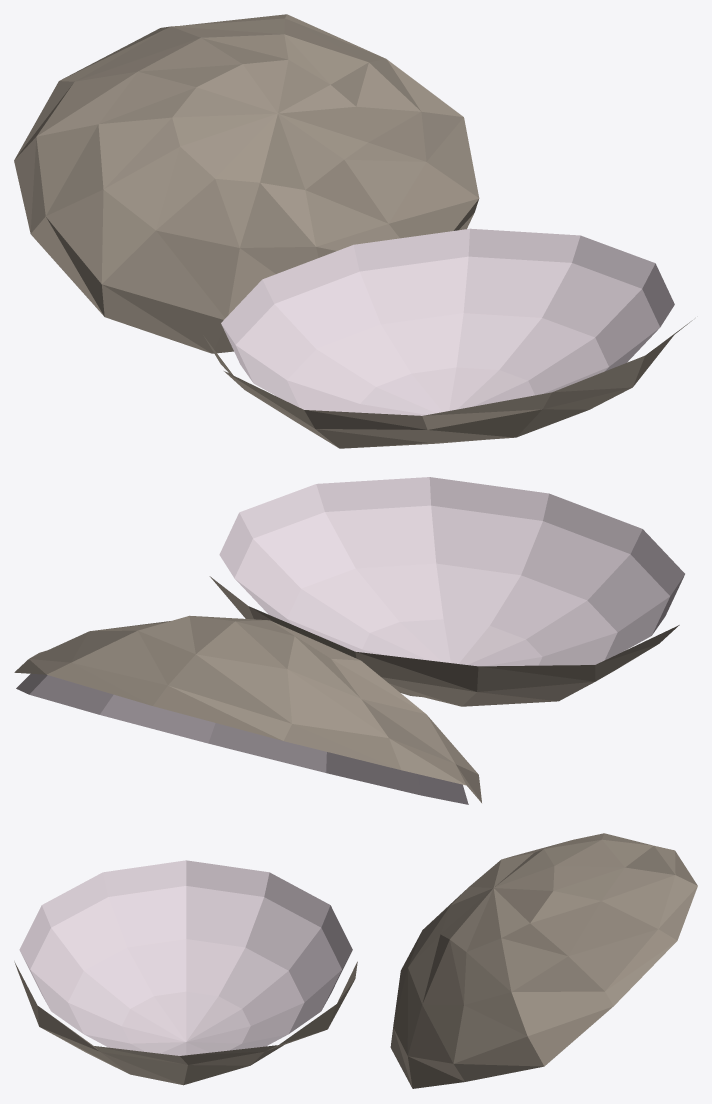
File: ZB_obje_sedef.glb
3 views of the same model, one above another, from view 1: azimuth 30°, elevation 25°; view 2: azimuth 150°, elevation 25°; view 3: azimuth 270°, elevation 25° (orthographic). The views are drawn at different scales.
Parts seen in each view (by area): view 1: ust_kabuk, ZB_obje_sedef; view 2: ZB_obje_sedef, ust_kabuk; view 3: ZB_obje_sedef, ust_kabuk.
Boxes of the visible parts, x1,y1,x2,y2 form: ust_kabuk: (14,14,479,353); ZB_obje_sedef: (203,228,692,448); ZB_obje_sedef: (209,477,684,706); ust_kabuk: (14,615,481,804); ZB_obje_sedef: (14,860,357,1085); ust_kabuk: (390,833,697,1088).
Size of the model in its own units: 0.3149 by 0.1459 by 0.4705.
